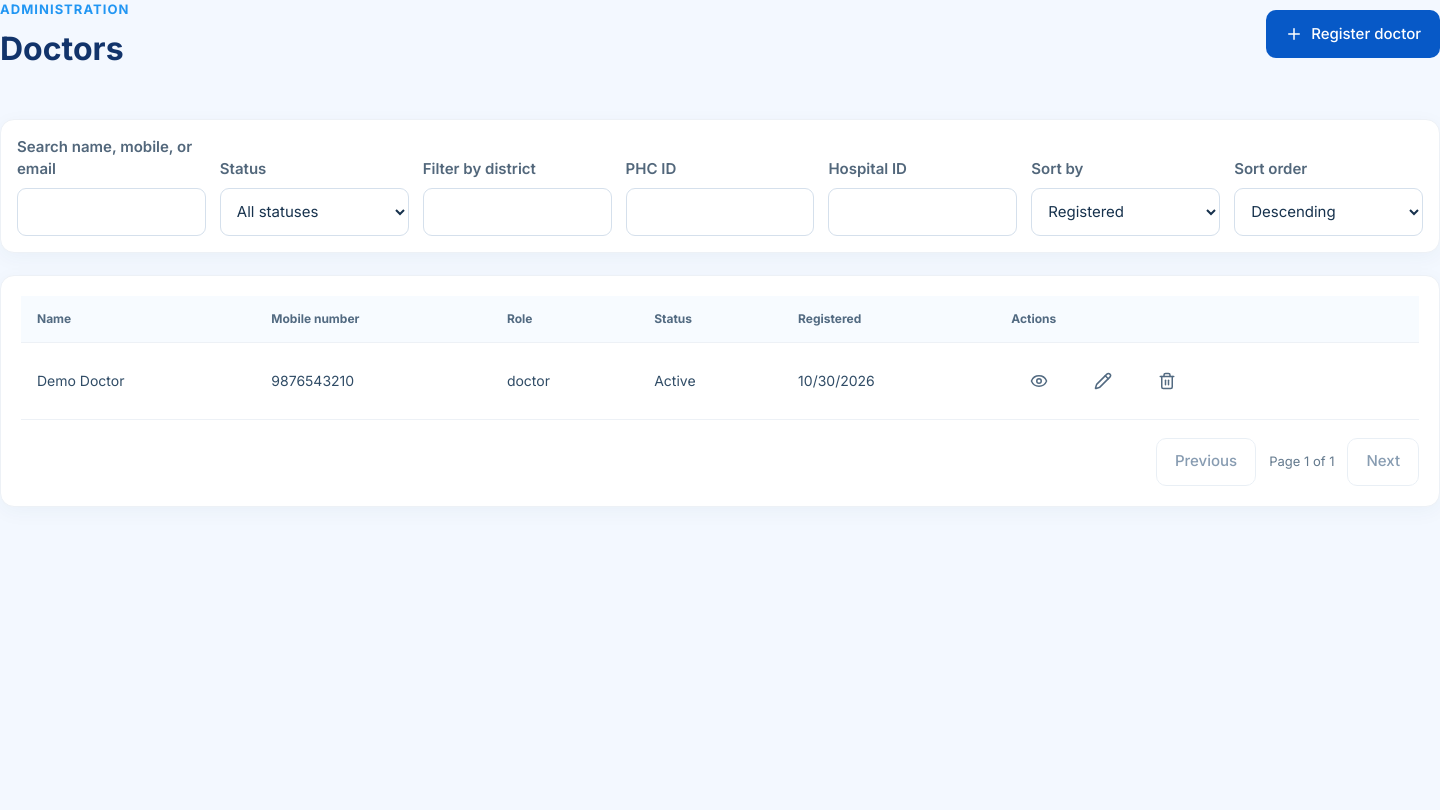
Test case: admin dashboard and user-management screens › shows a doctor-only registration flow in doctor management
Check: the heading "Doctors" is shown, box [0,28,129,68]
Click the button "Register doctor" at (1353, 34), box [1266,10,1439,58]
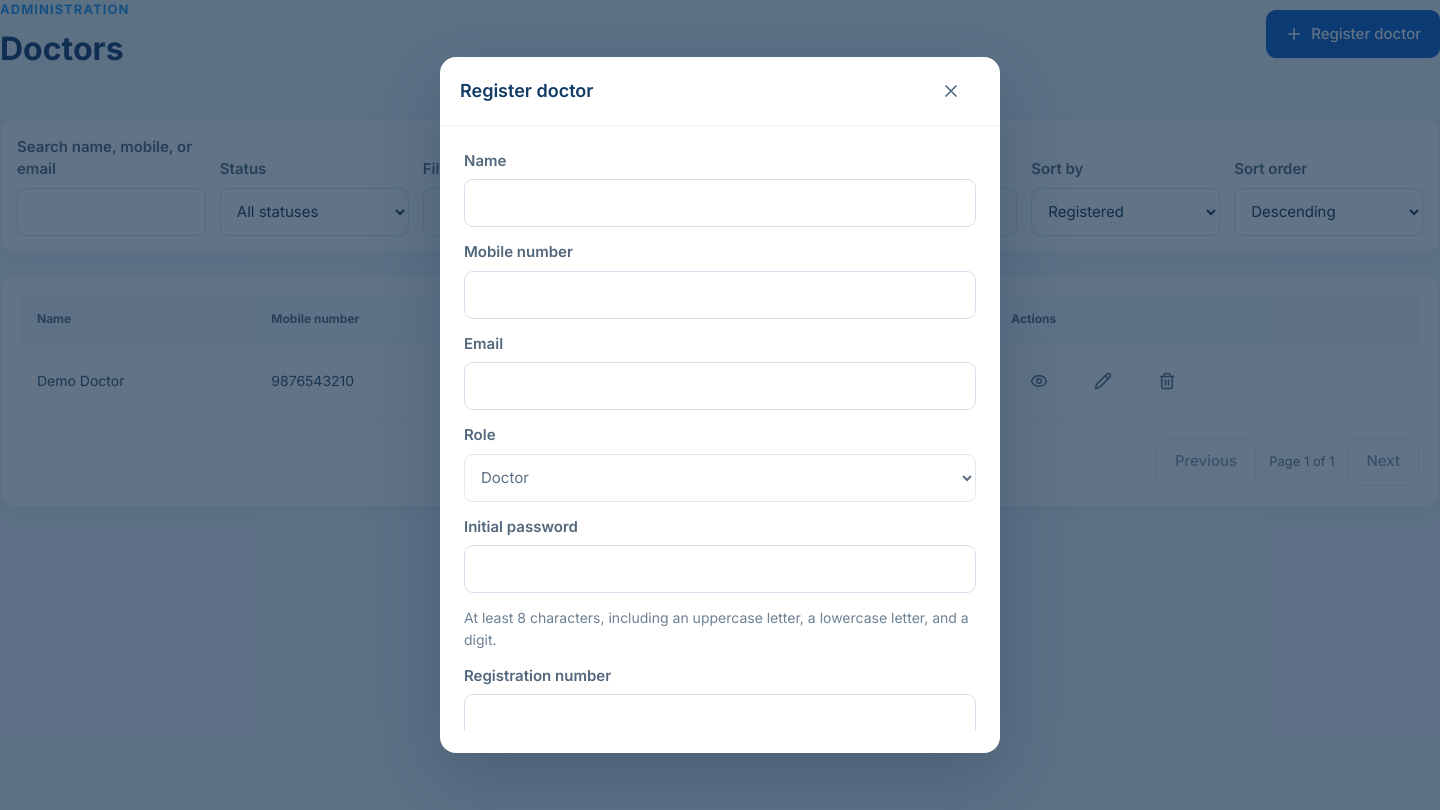
Check: the heading "Register doctor" is shown, box [460,77,594,104]
Check: the dropdown labelled "Role" shows "Doctor", box [464,454,976,502]
Check: the dropdown labelled "Role" is disabled, box [464,454,976,502]
